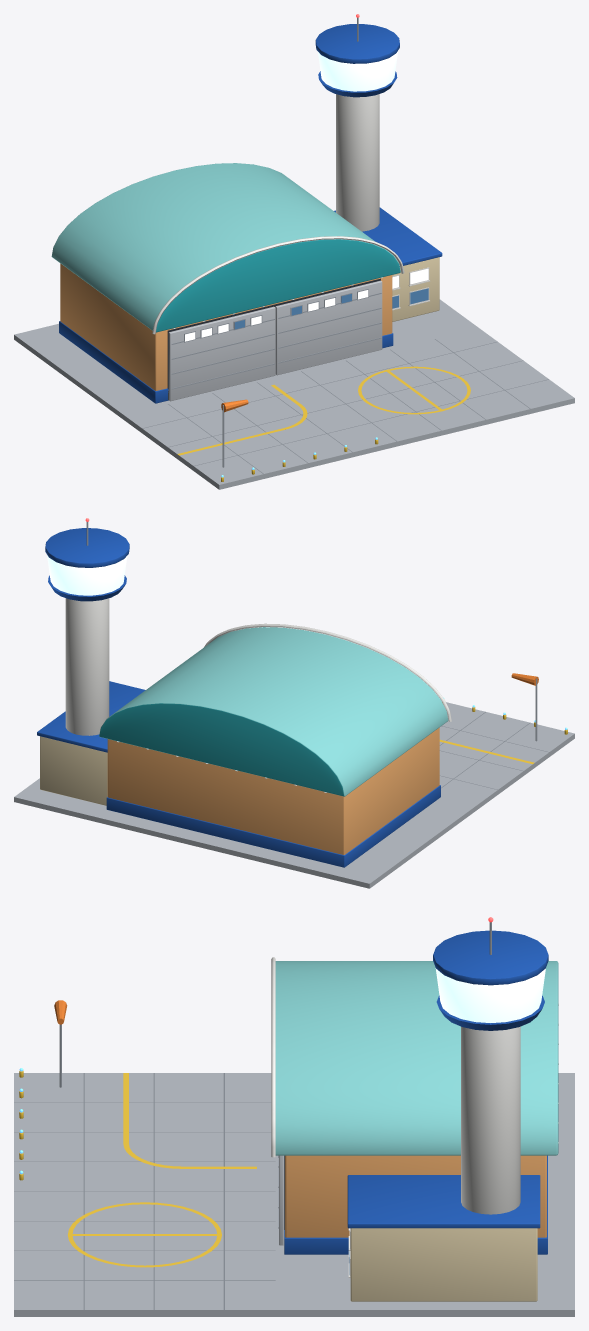
The model's file is aeroporto_hangar.glb.
3 views of the same model, one above another, from view 1: azimuth 30°, elevation 25°; view 2: azimuth 150°, elevation 25°; view 3: azimuth 270°, elevation 25° (orthographic). The views are drawn at different scales.
Visible parts, largest first — view 1: aeroporto_hangar, portao_esq; view 2: aeroporto_hangar; view 3: aeroporto_hangar.
Part boxes in pixels (box(x1,y1,x2,y2)): aeroporto_hangar: box(14, 14, 574, 489); portao_esq: box(168, 306, 275, 401); aeroporto_hangar: box(14, 518, 574, 888); aeroporto_hangar: box(14, 917, 574, 1316).
Bounding box in the file's own units: 30 × 21.89 × 30.
7 materials, 2 textured.
